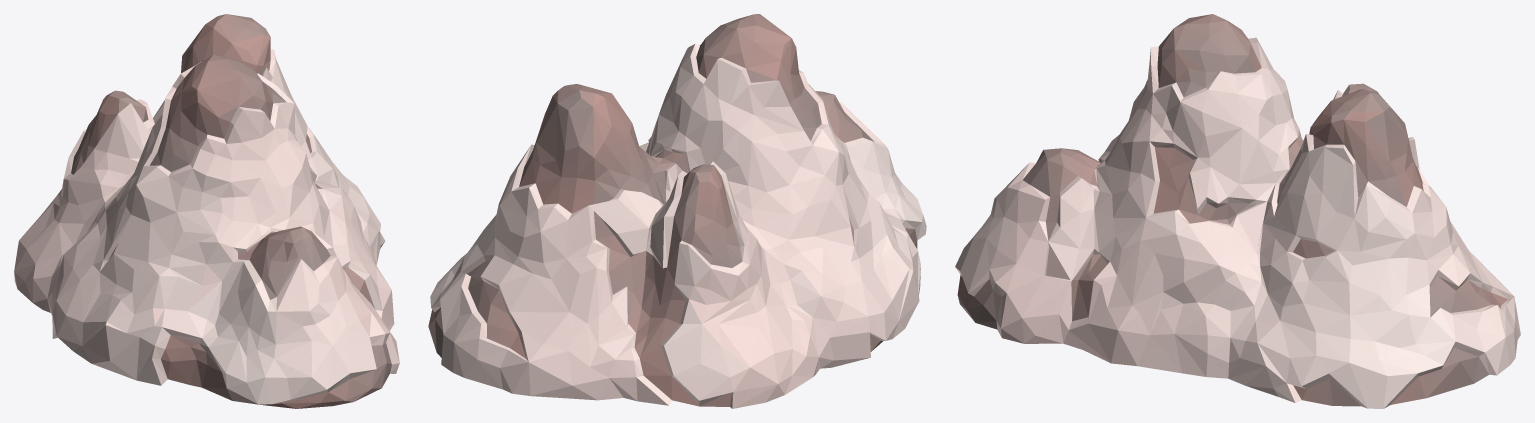
Rendered from Mountain_1A.fbx.
3 renders of one model, left to right at view 1: azimuth 30°, elevation 25°; view 2: azimuth 150°, elevation 25°; view 3: azimuth 270°, elevation 25°, orthographic. The views are drawn at different scales.
Visible parts, largest first — view 1: Group64595; view 2: Group64595; view 3: Group64595.
Part boxes in pixels (bbox=[...]): Group64595: bbox=[14, 14, 399, 408]; Group64595: bbox=[428, 14, 926, 408]; Group64595: bbox=[955, 14, 1520, 408].
Size of the model in its own units: 66.68 by 46.72 by 85.12.
Materials: 1 (1 with a texture image).
